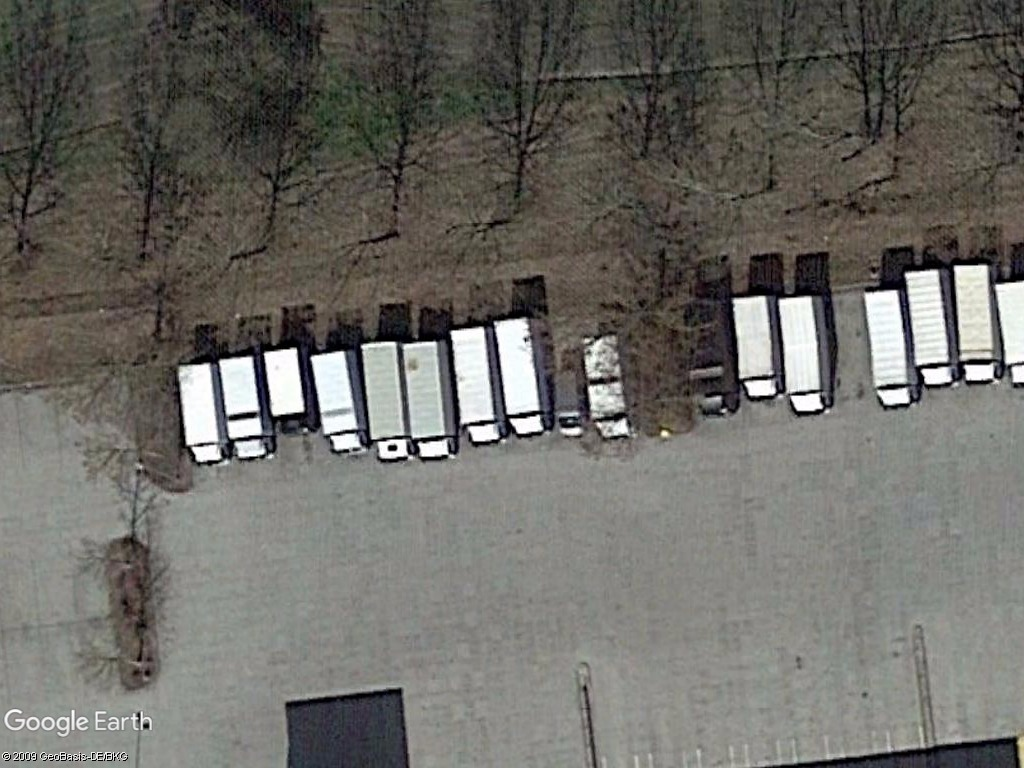truck: (771, 286, 837, 418), (900, 263, 965, 393), (490, 314, 555, 441), (447, 322, 506, 450), (861, 283, 919, 412), (948, 259, 1005, 390), (401, 333, 457, 463), (306, 348, 368, 461), (357, 337, 412, 463), (172, 357, 231, 469), (728, 290, 783, 407), (217, 350, 274, 462), (259, 345, 314, 437)
